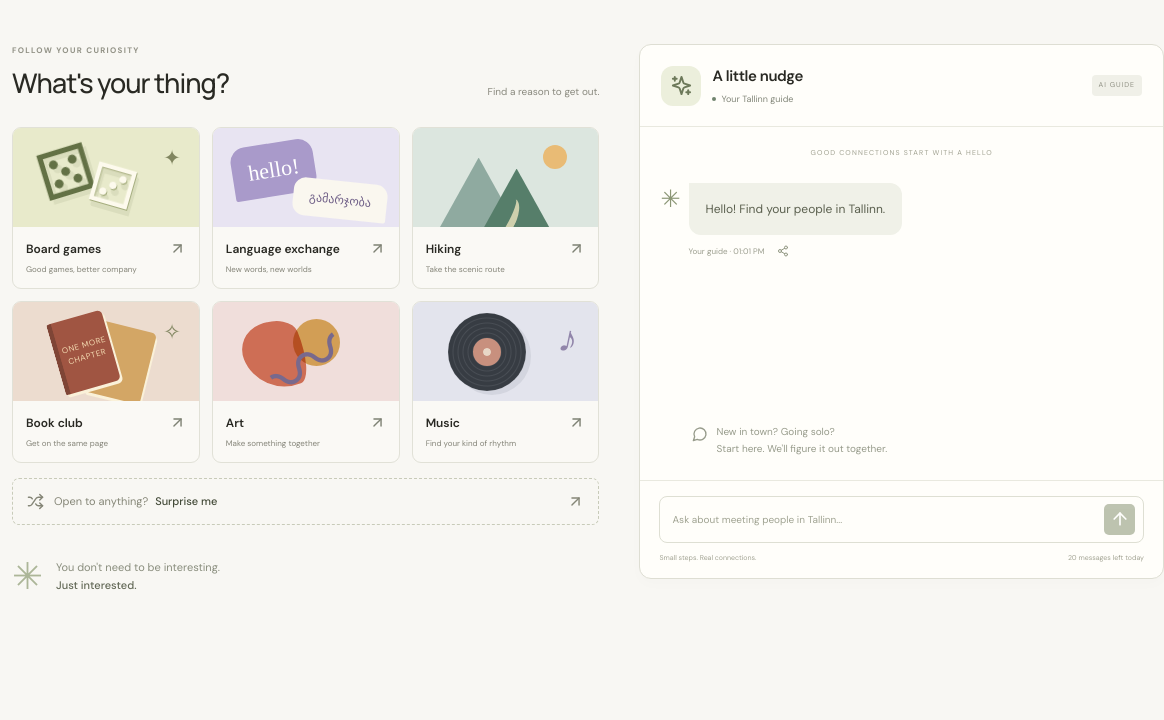
Test: ChatBox Component › should enable send button when input has text
The image size is (1164, 720).
Type "Hello" into the field with placeholder "Ask about meeting people in Tallinn...". click: (885, 519)
box: left=672, top=512, right=1097, bottom=526
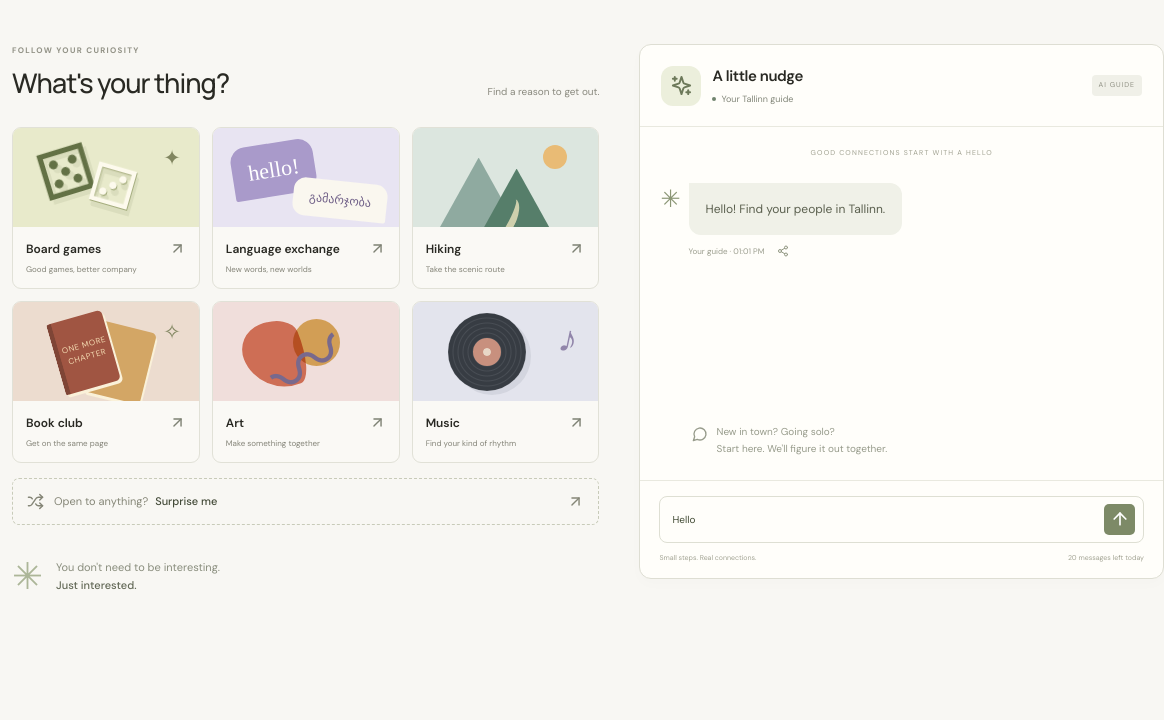
Check: the button named "Send message" is enabled, box left=1104, top=504, right=1135, bottom=534
